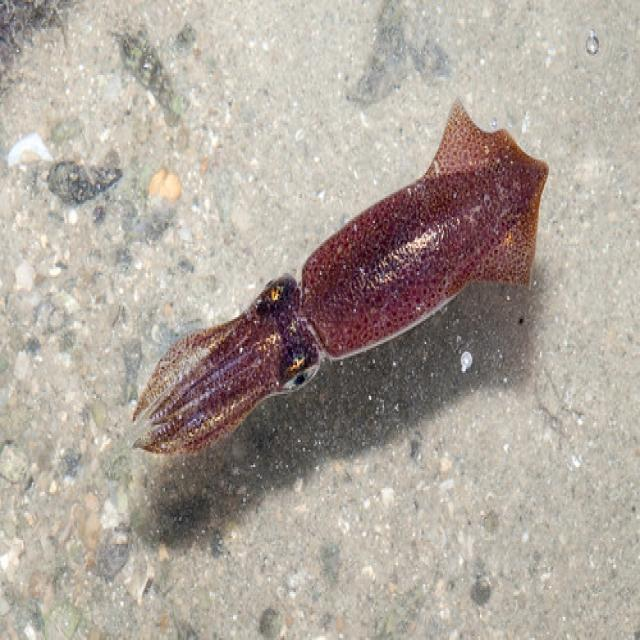SQUID: (112, 94, 555, 497)
